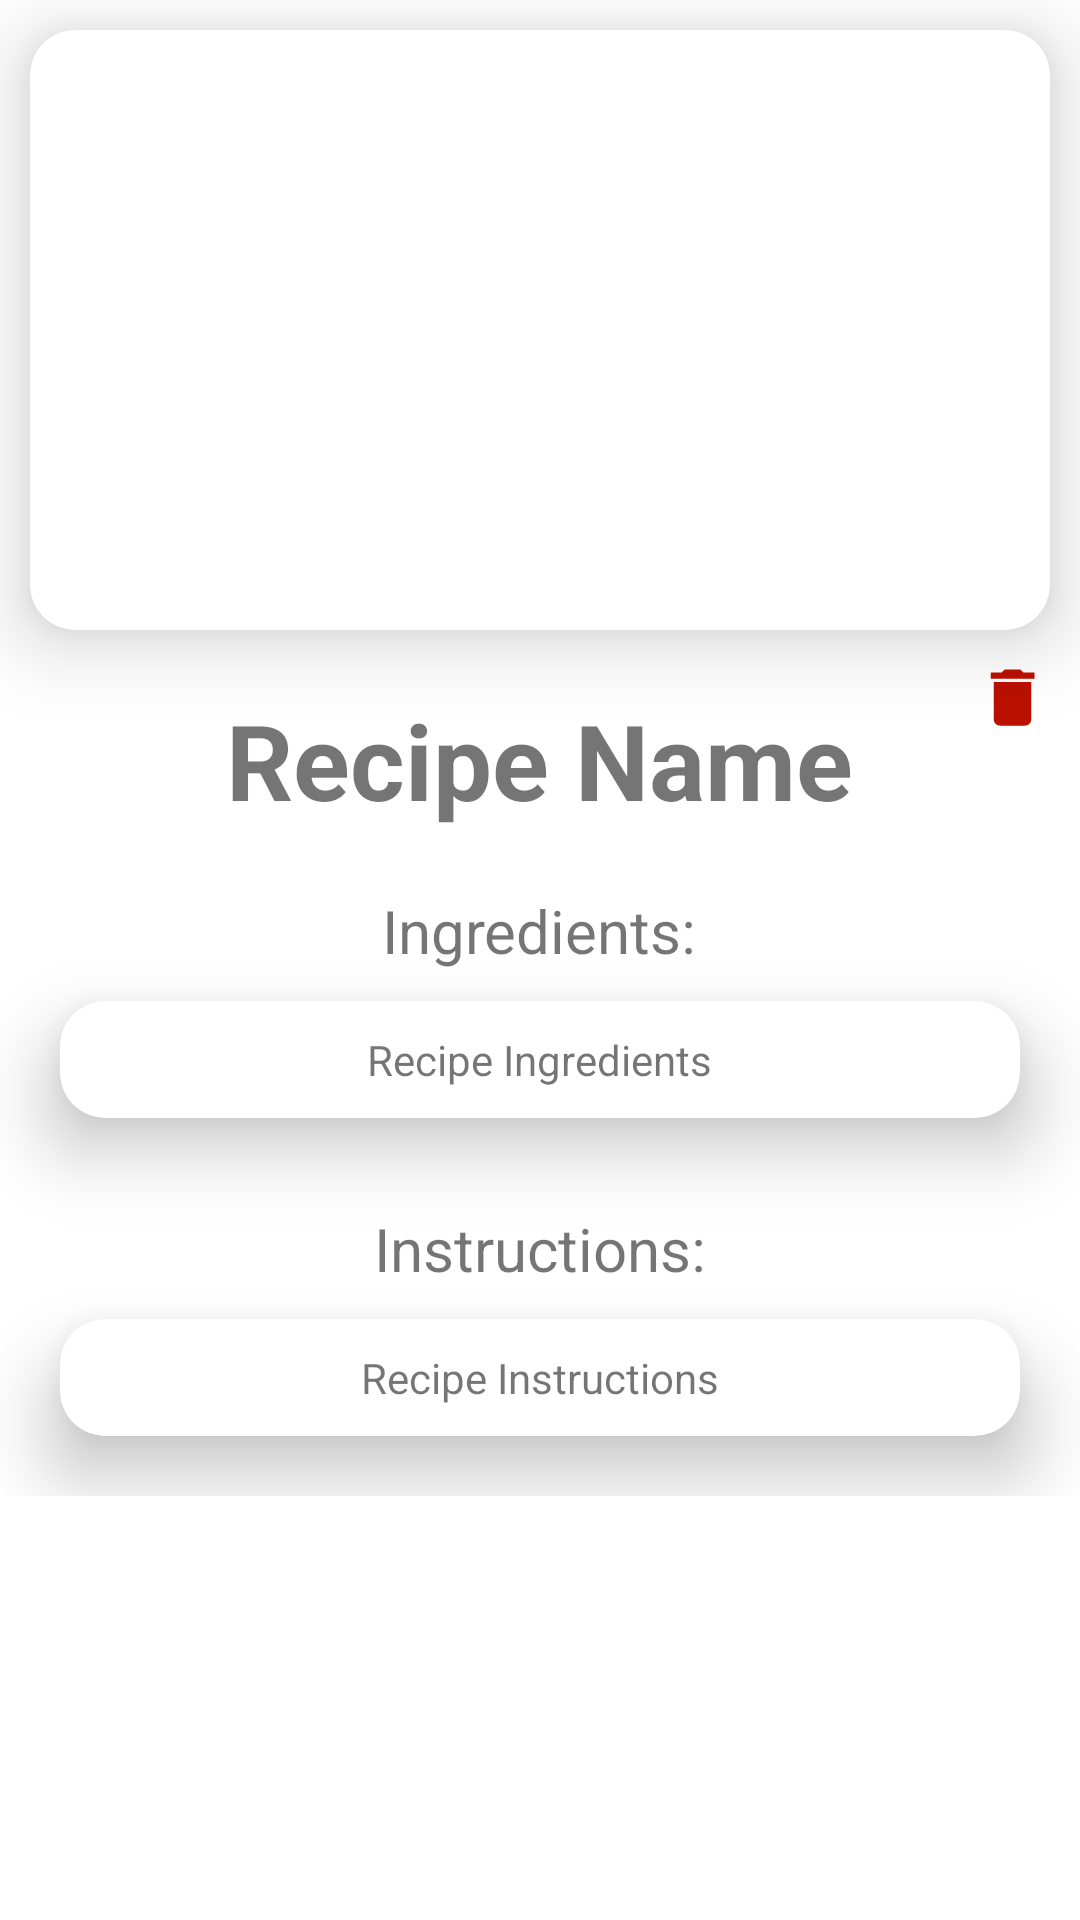

Locate icon controls on the screen. Image size 1080 × 1920, boxes as {"left": x1, "top": y1, "right": x2, "bottom": y2}.
delete: {"left": 990, "top": 669, "right": 1035, "bottom": 726}
